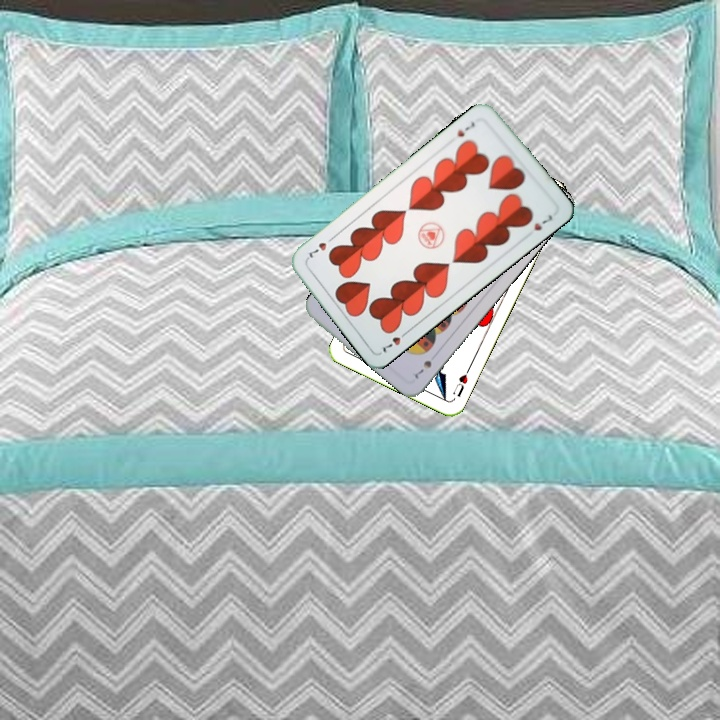H7: (376, 326, 412, 357), (453, 118, 477, 140)
HU: (449, 364, 473, 400)
S7: (410, 356, 434, 382)
